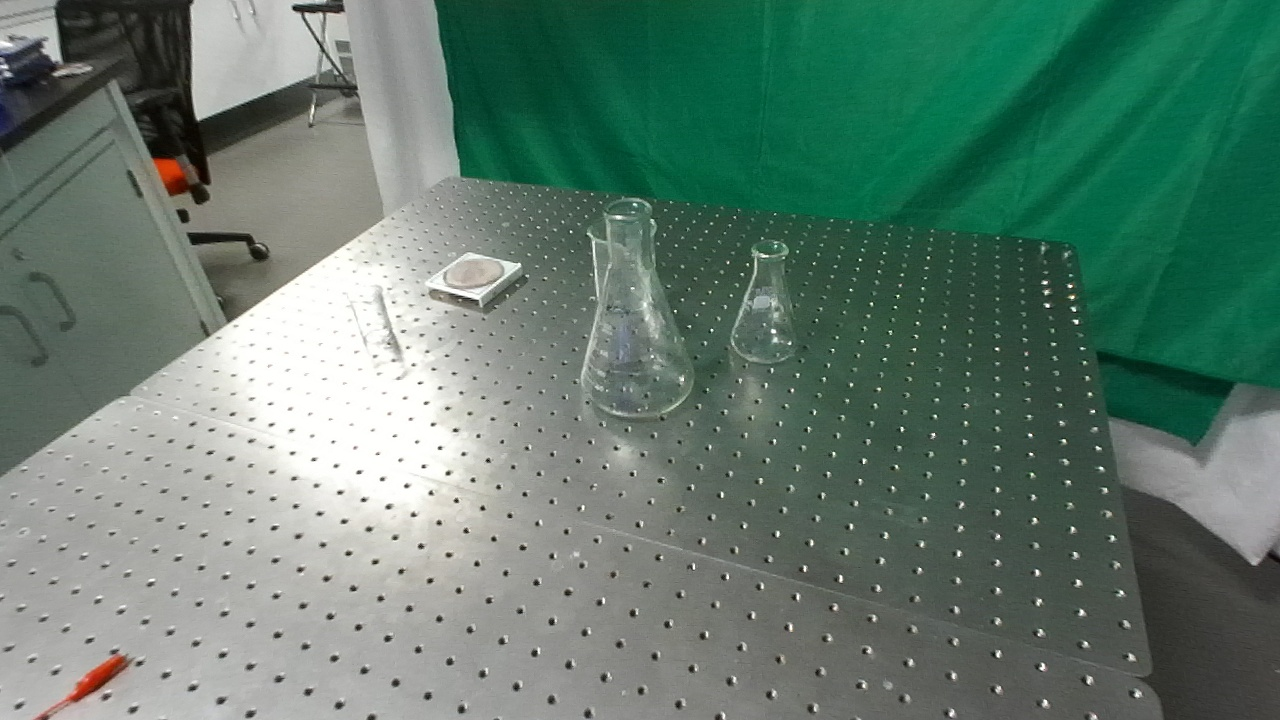glass: (346, 285, 395, 349)
